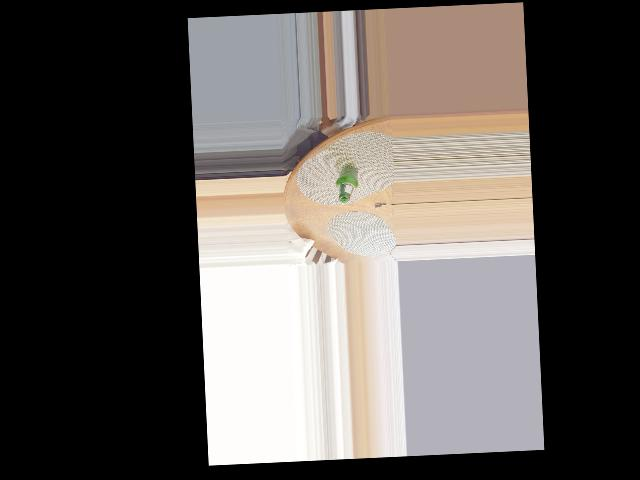beer: (334, 165, 358, 202)
